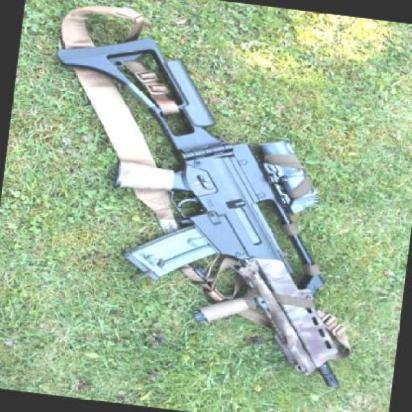Gun: (7, 25, 406, 394)
